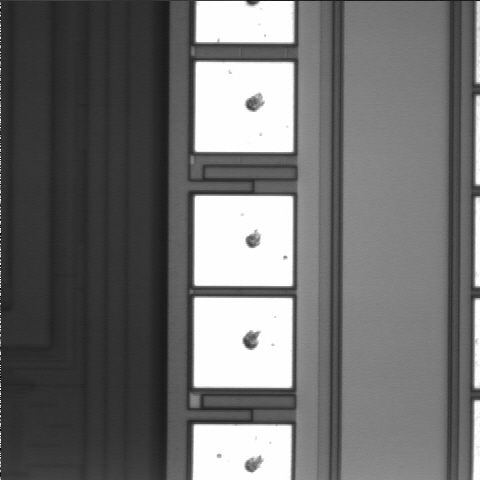pad: (195, 62, 294, 152), (194, 196, 293, 286), (194, 298, 292, 388)
